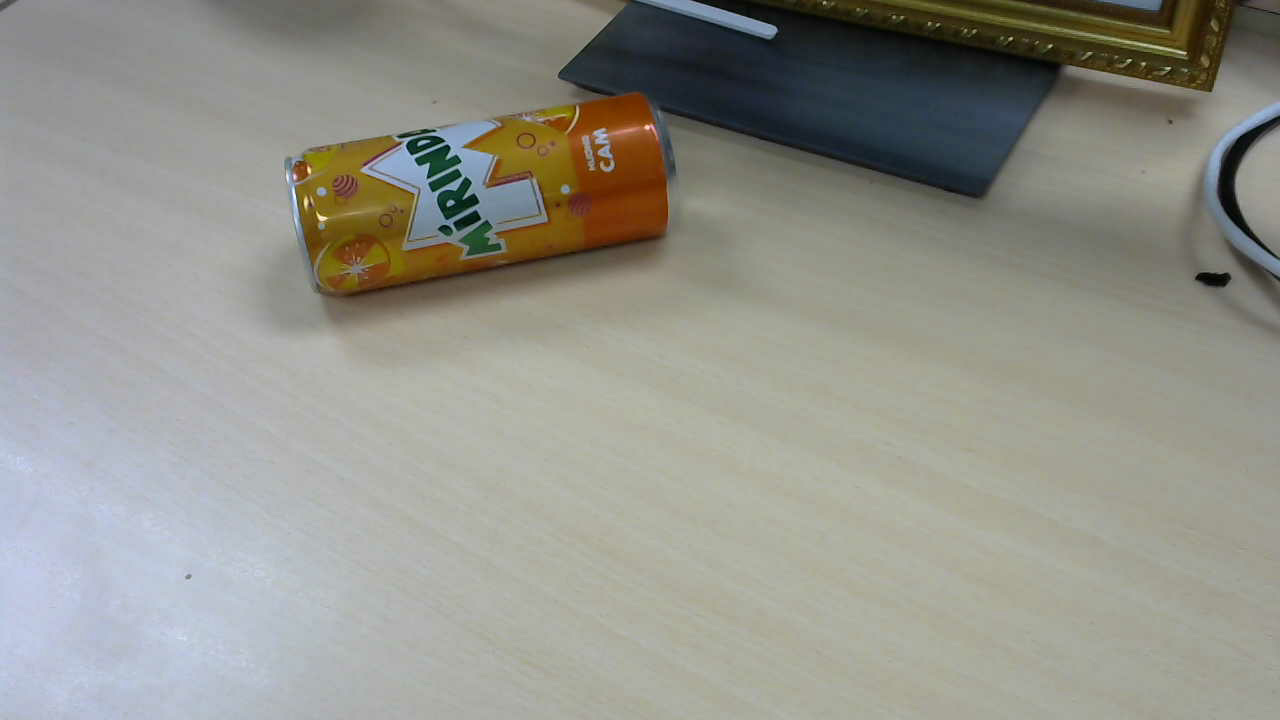Mirinda: (290, 95, 678, 302)
